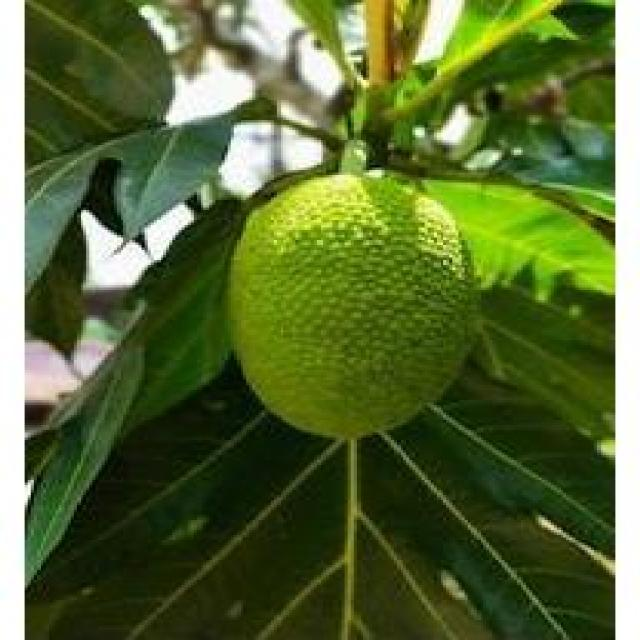Fruit: (203, 155, 492, 457)
